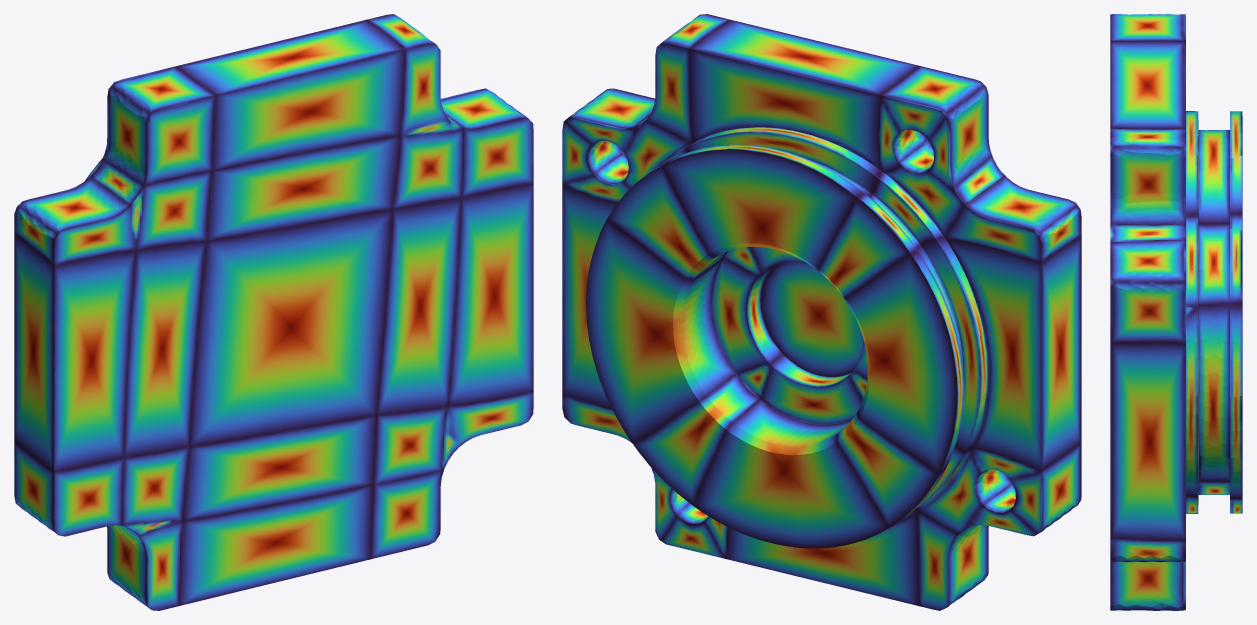
The model's file is gen0.glb.
The picture shows the model from 3 angles, left to right: view 1: azimuth 30°, elevation 25°; view 2: azimuth 150°, elevation 25°; view 3: azimuth 270°, elevation 25°; orthographic projection. The views are drawn at different scales.
Parts seen in each view (by area): view 1: Node; view 2: Node; view 3: Node.
Part boxes in pixels (<box>): Node: <box>14,14,533,610</box>; Node: <box>562,14,1081,610</box>; Node: <box>1110,14,1242,610</box>.
Size of the model in its own units: 82.52 by 82.52 by 21.01.
Materials: 1 (1 with a texture image).
